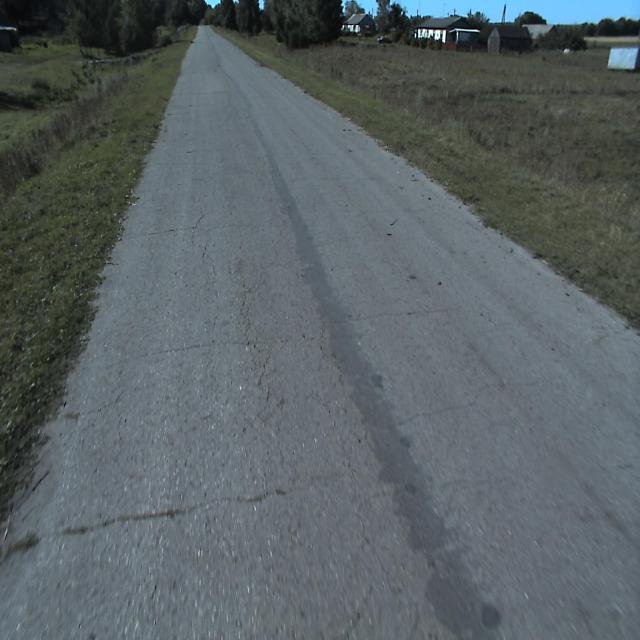road: (0, 25, 640, 639)
